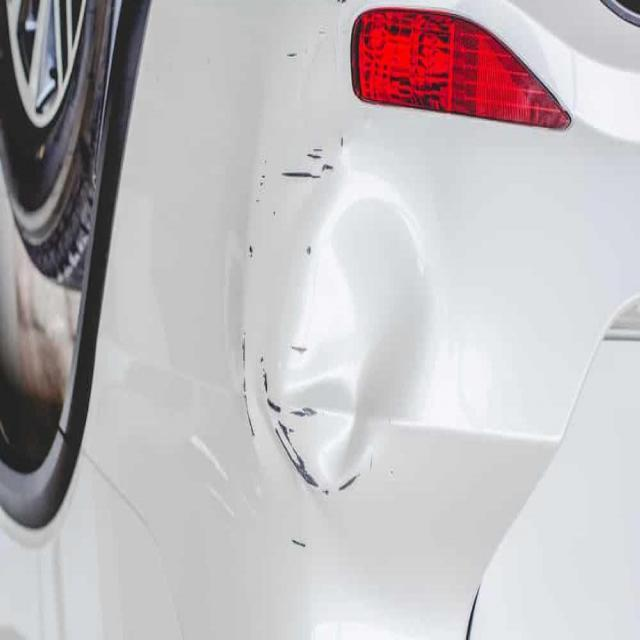dent: (203, 151, 457, 526)
